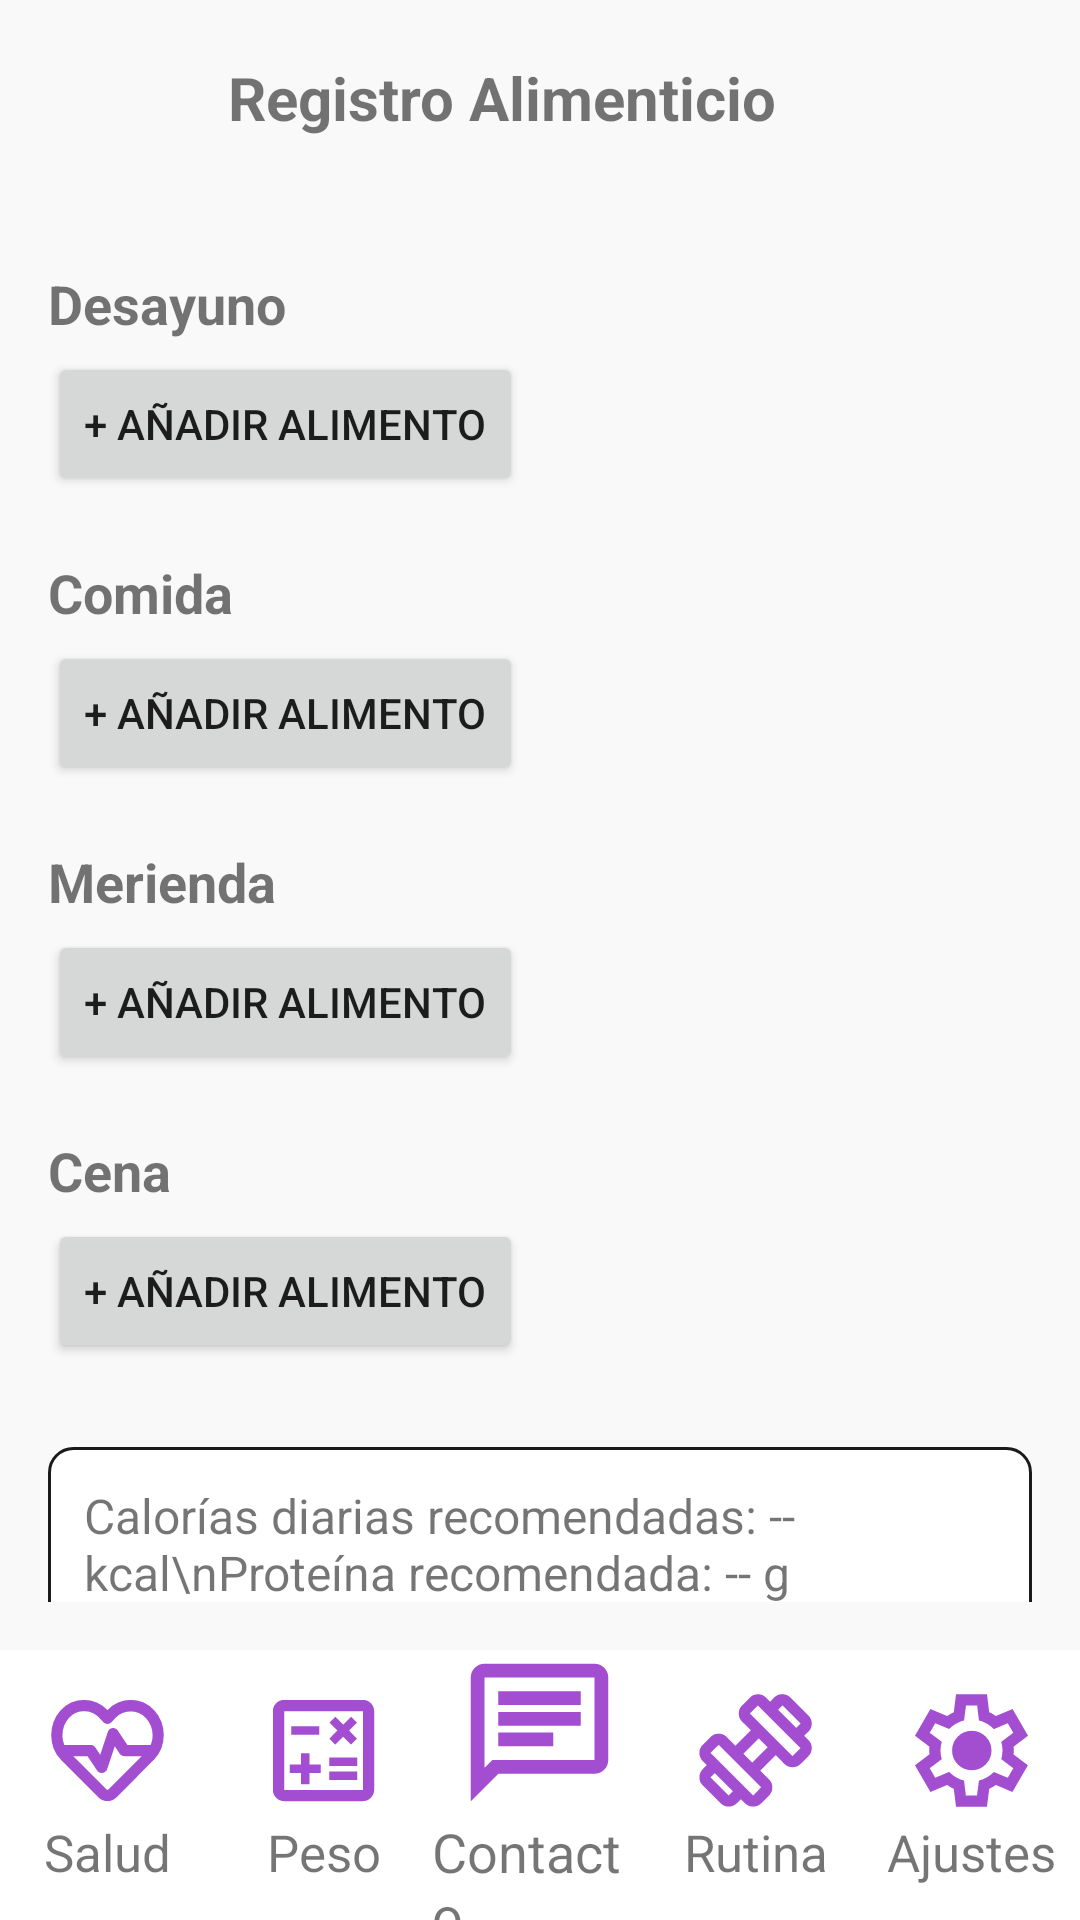

Screen size 1080w x 1920h. Icon name, then its box in pixels as [left=x1, top=y1, right=x2, bottom=y2]:
calculate: [left=273, top=1700, right=375, bottom=1802]
chat: [left=470, top=1663, right=609, bottom=1801]
ecg heart: [left=51, top=1700, right=164, bottom=1801]
exercise: [left=699, top=1694, right=812, bottom=1807]
